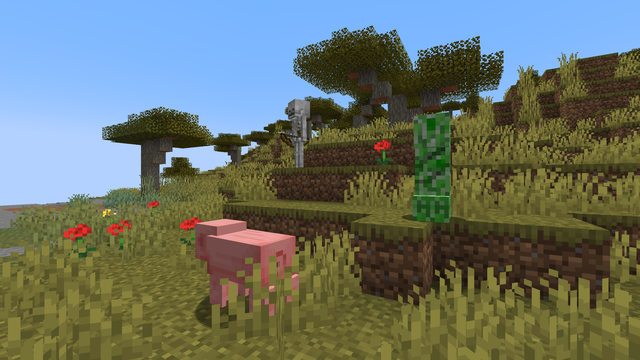cochons: (199, 225, 298, 327)
creepers: (409, 105, 453, 221)
squelettes: (285, 98, 312, 167)
